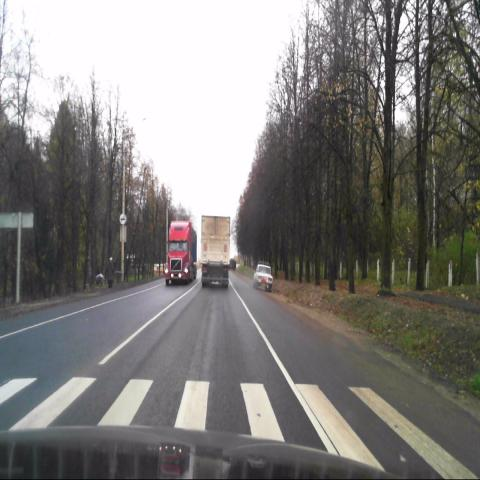3_31: (120, 213, 126, 225)
